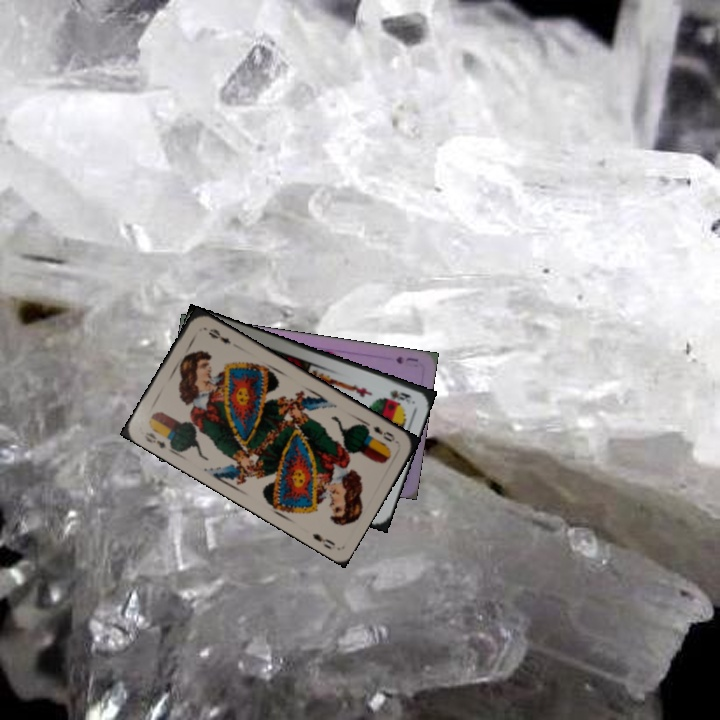EO: (140, 425, 176, 455), (369, 422, 398, 445)
SK: (386, 386, 414, 407)
SU: (392, 352, 421, 366)
